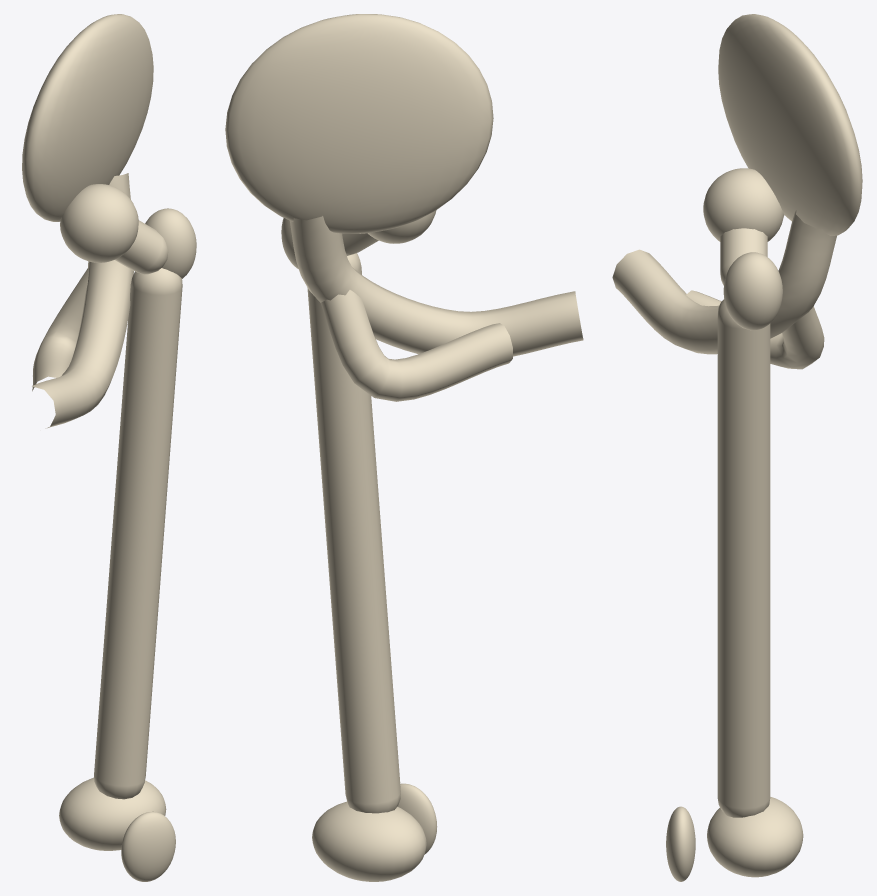
File: sample-hip-femur.glb
The picture shows the model from 3 angles, left to right: view 1: azimuth 30°, elevation 25°; view 2: azimuth 150°, elevation 25°; view 3: azimuth 270°, elevation 25°; orthographic projection. The views are drawn at different scales.
Visible parts, largest first — view 1: femur_L, hip_bone_L, patella_L; view 2: hip_bone_L, femur_L, patella_L; view 3: femur_L, hip_bone_L, patella_L.
Part boxes in pixels (x1,y1,x2,y2): femur_L: [59, 184, 196, 850]; hip_bone_L: [22, 14, 153, 428]; patella_L: [121, 811, 175, 881]; hip_bone_L: [225, 14, 583, 401]; femur_L: [281, 210, 436, 881]; patella_L: [397, 783, 437, 854]; femur_L: [703, 168, 803, 877]; hip_bone_L: [612, 14, 862, 369]; patella_L: [666, 806, 695, 881].
Bounding box in the file's own units: 0.15 × 0.5059 × 0.1348.
